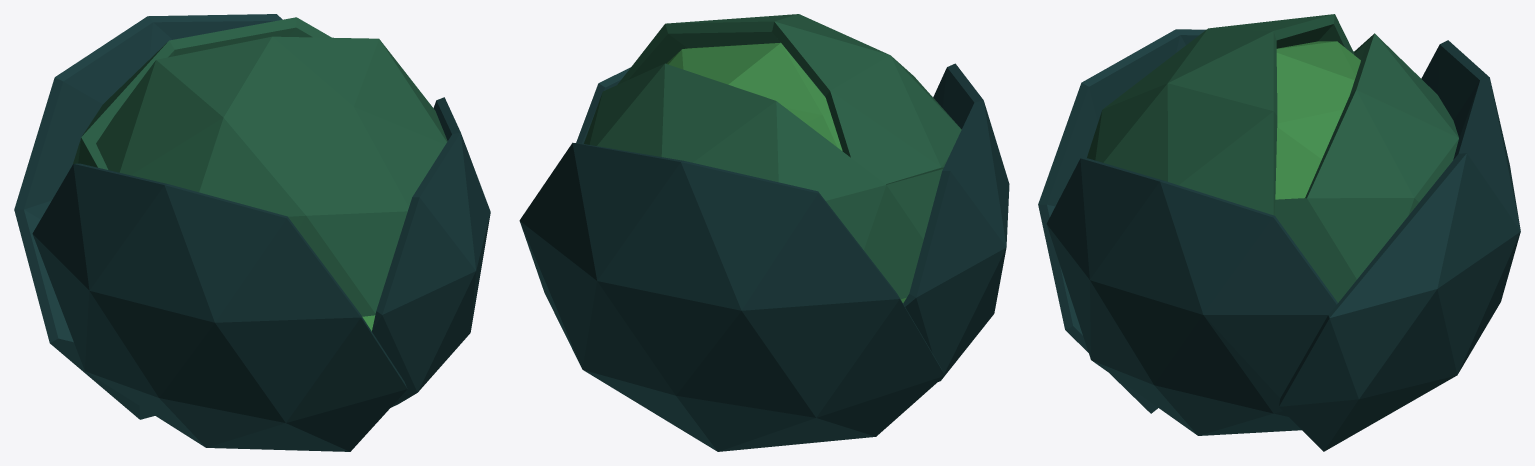
The model's file is Cabbage_L.fbx.
The picture shows the model from 3 angles, left to right: view 1: azimuth 30°, elevation 25°; view 2: azimuth 150°, elevation 25°; view 3: azimuth 270°, elevation 25°; orthographic projection. The views are drawn at different scales.
Parts seen in each view (by area): view 1: Cabbage L; view 2: Cabbage L; view 3: Cabbage L.
Boxes of the visible parts, <box> form: Cabbage L: <box>14,14,490,451</box>; Cabbage L: <box>519,14,1009,451</box>; Cabbage L: <box>1038,14,1520,451</box>.
Bounding box in the file's own units: 50.18 × 45.16 × 52.73.
